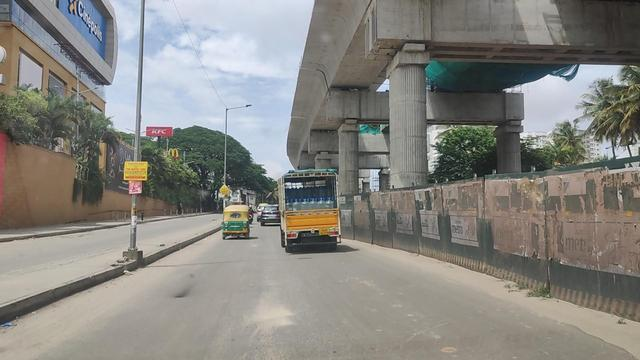HMV: (279, 164, 343, 259)
LMV: (221, 205, 253, 242)
